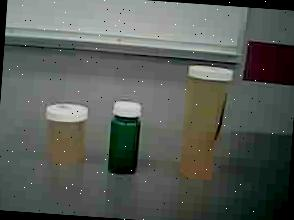Bottle A: (174, 58, 230, 187)
Bottle B: (38, 94, 94, 169)
Bottle C: (105, 96, 146, 182)
